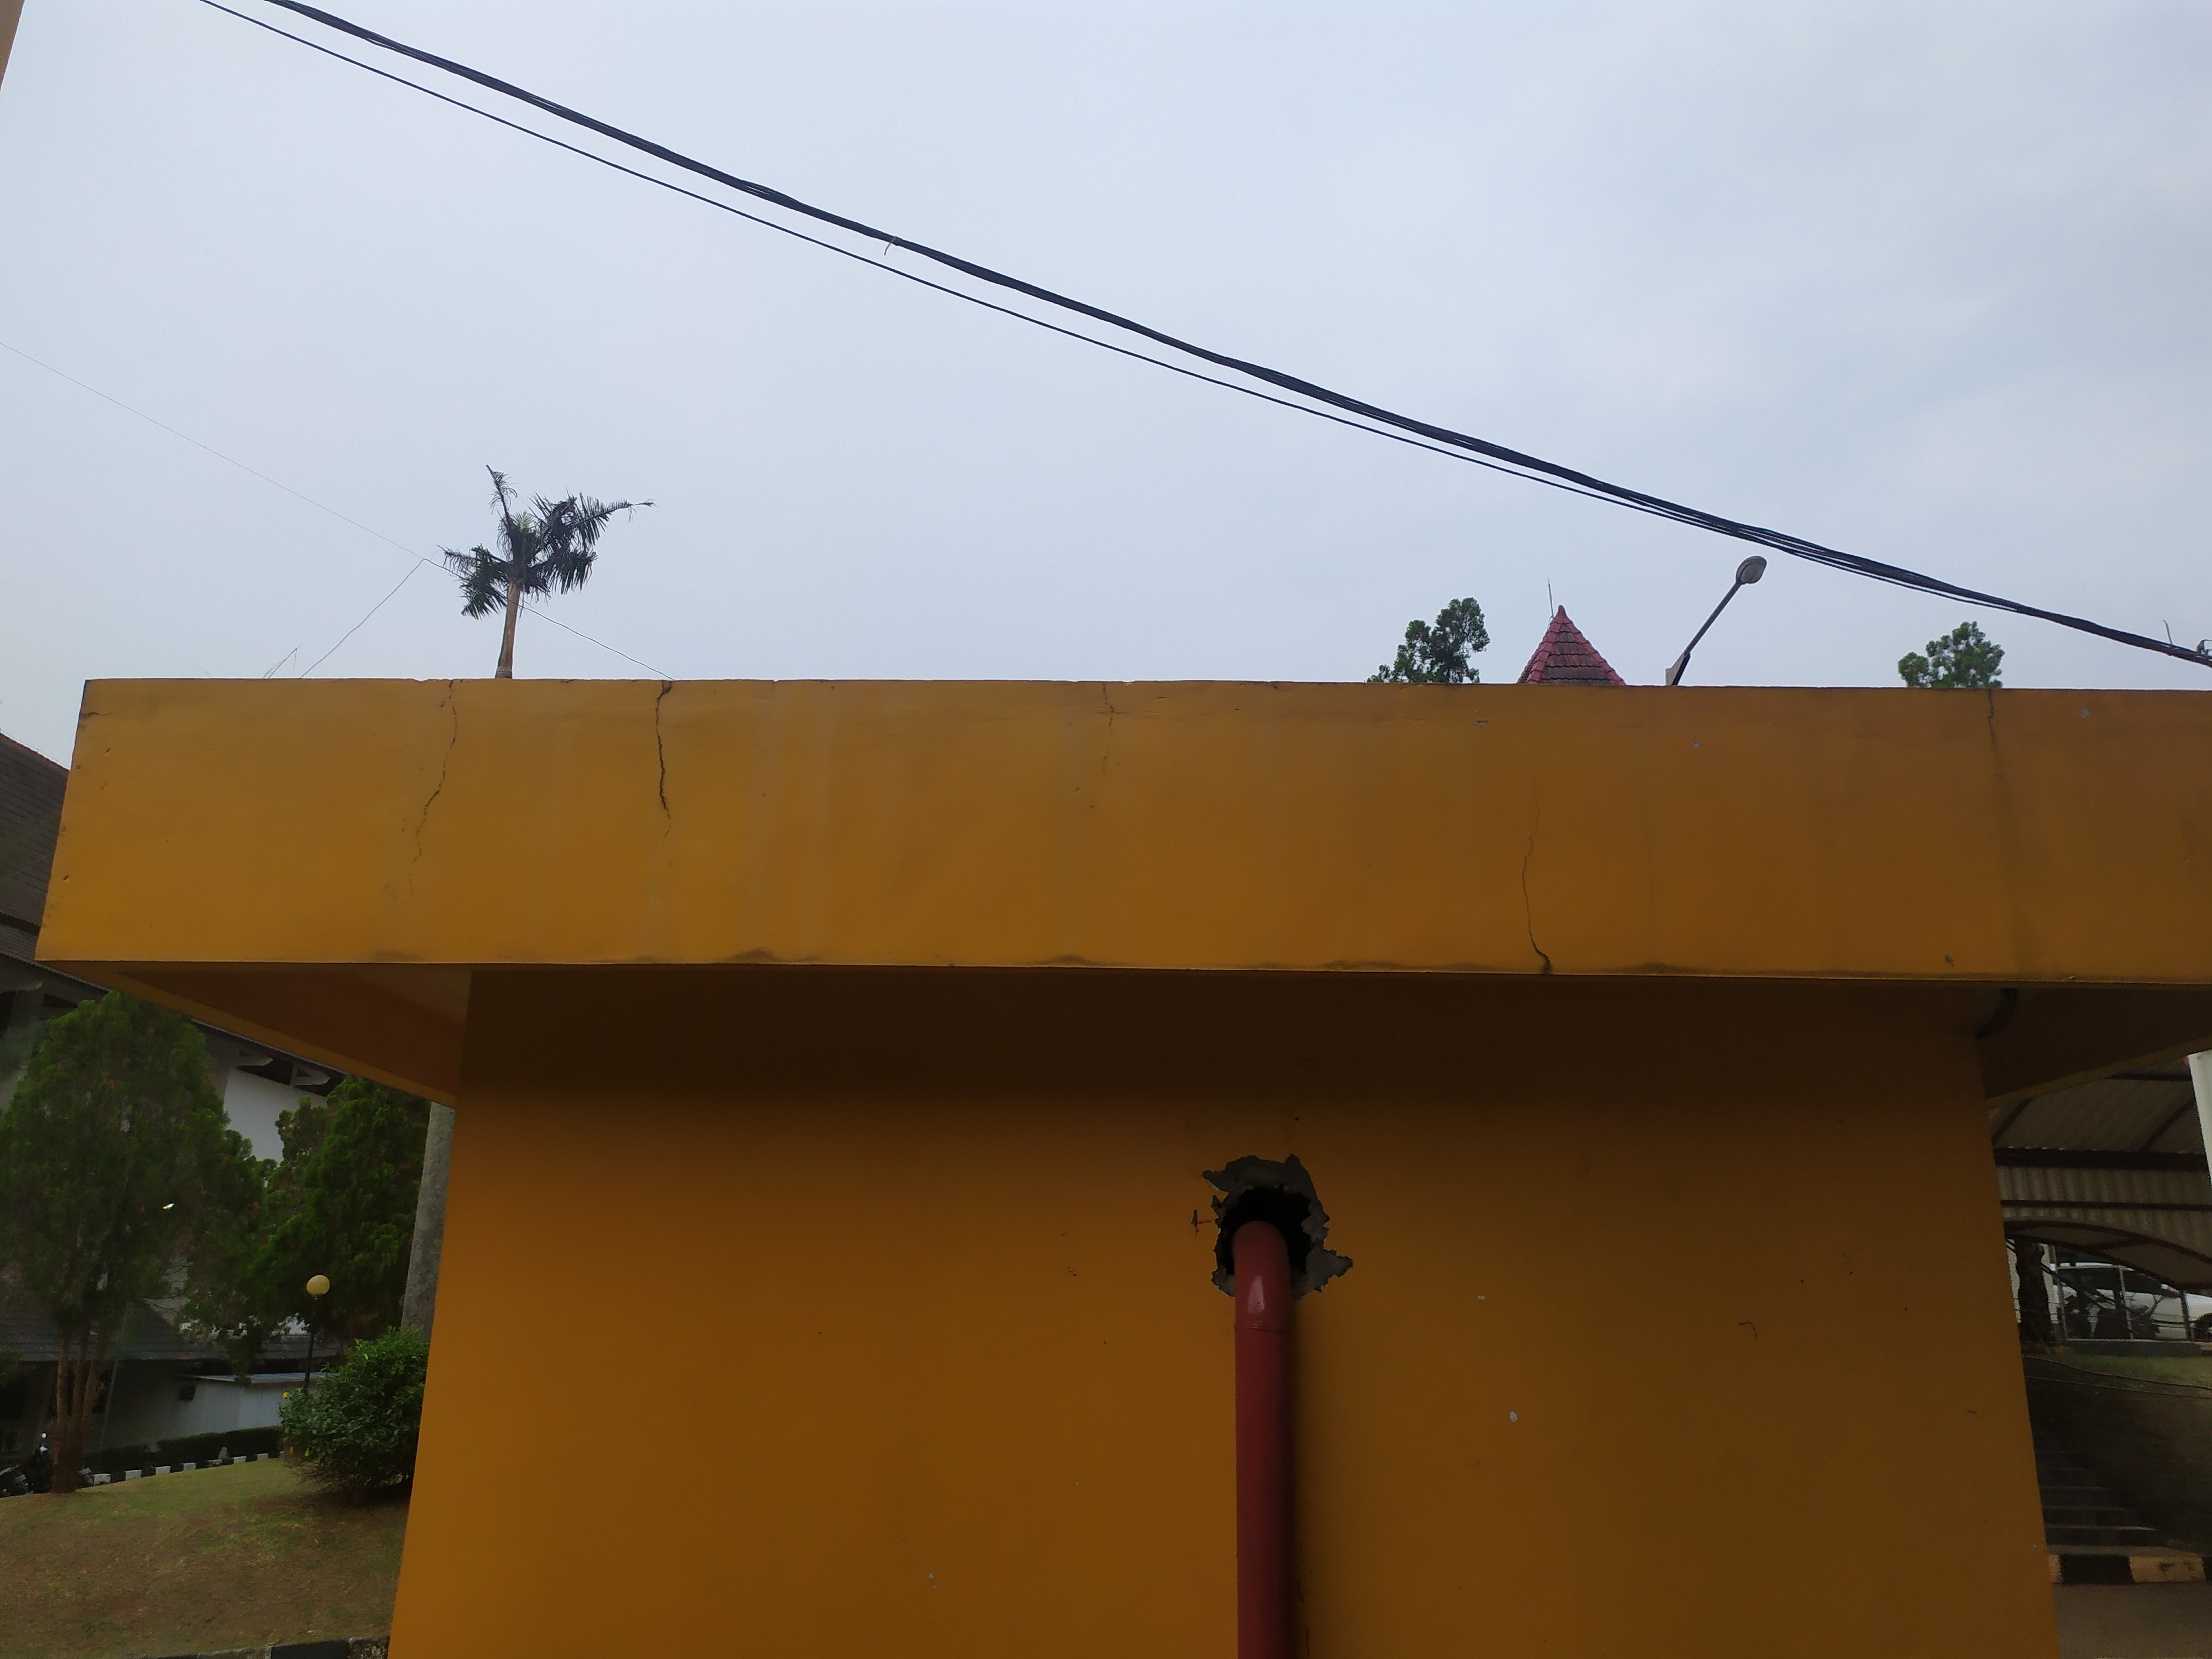crack: (1519, 775, 1557, 974), (651, 680, 683, 831), (1099, 681, 1118, 777), (1982, 690, 2001, 749)
